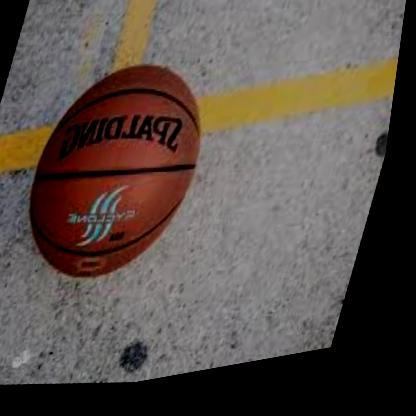basketball: (11, 49, 229, 305)
